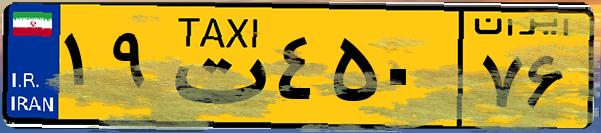0: (385, 28, 445, 110)
1: (57, 26, 110, 100)
4: (270, 28, 330, 110)
5: (330, 28, 385, 110)
6: (525, 38, 570, 115)
7: (475, 38, 525, 113)
9: (110, 28, 158, 98)
ت: (158, 12, 270, 120)
